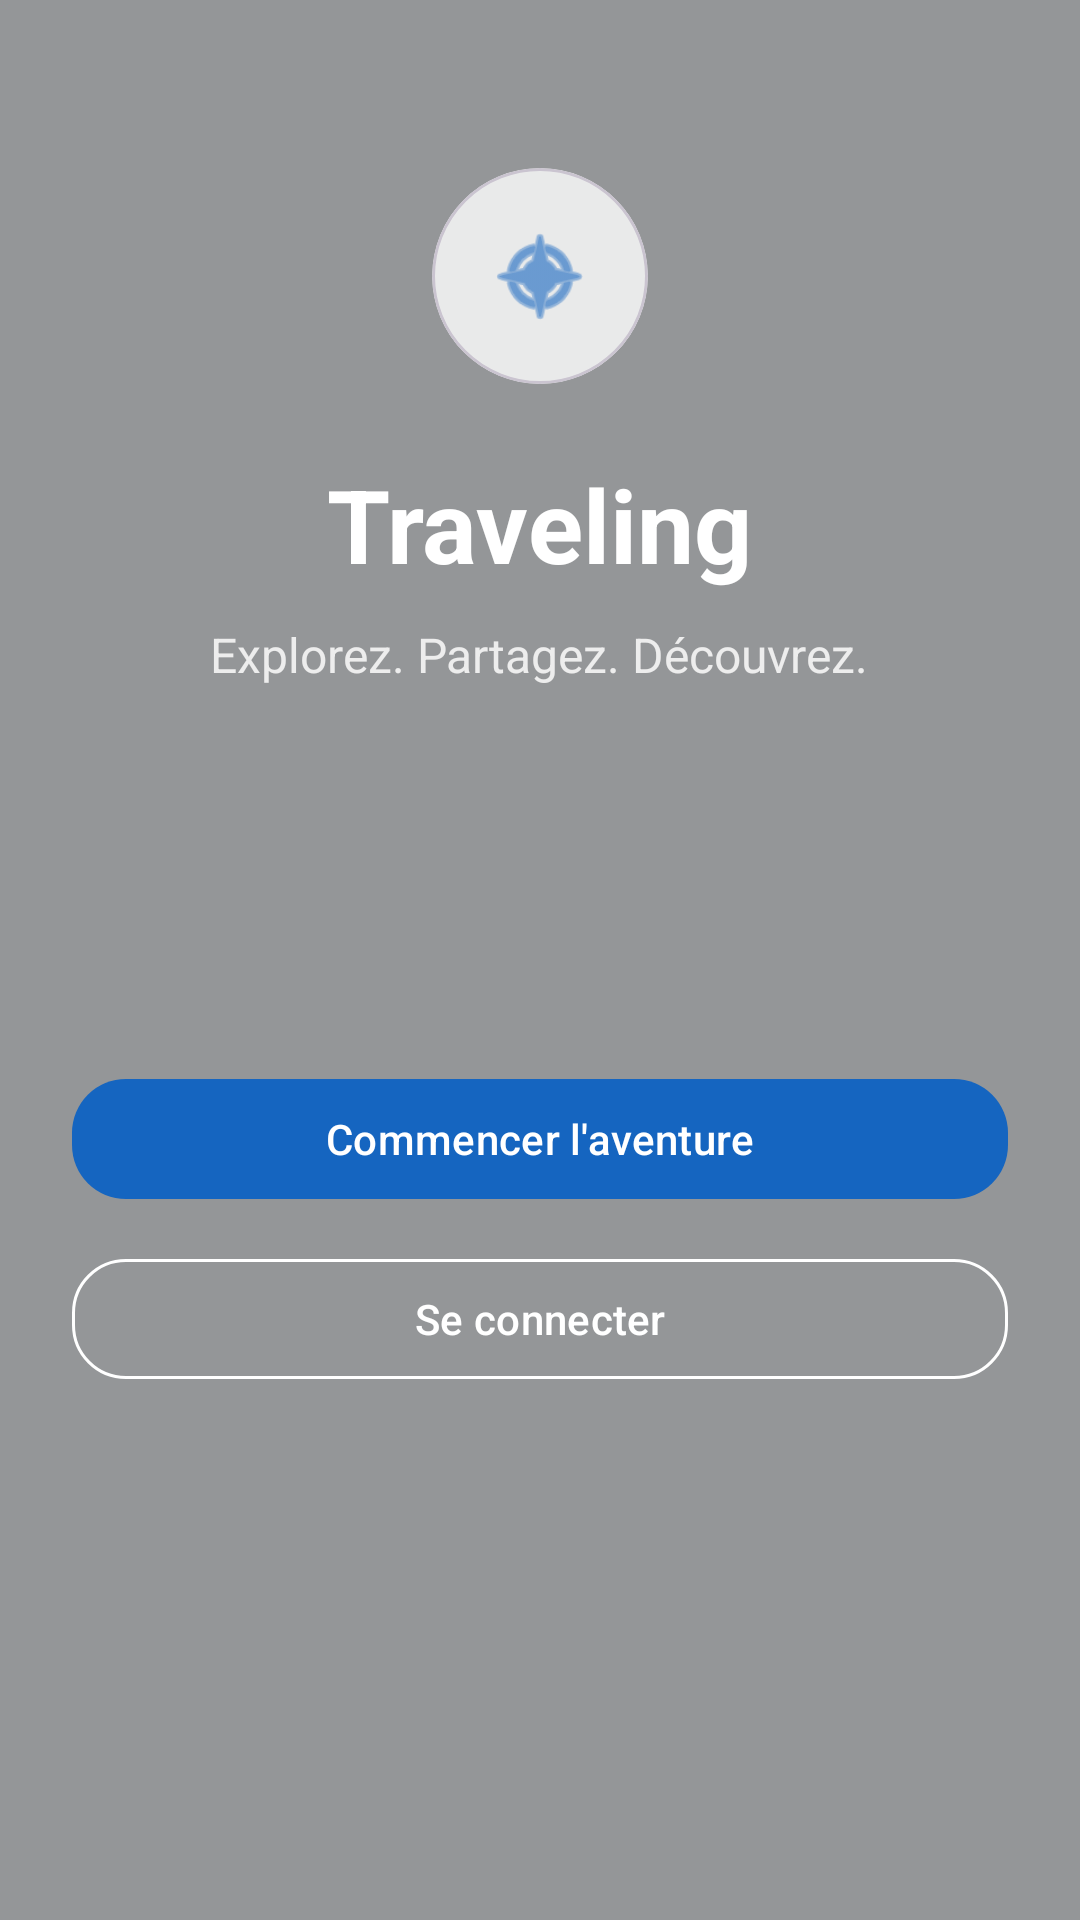

Screen size 1080 x 1920. Icon name, then its box in pixels as (left=x1, top=y1, right=x2, bottom=y2):
compass: (left=432, top=168, right=648, bottom=384)
